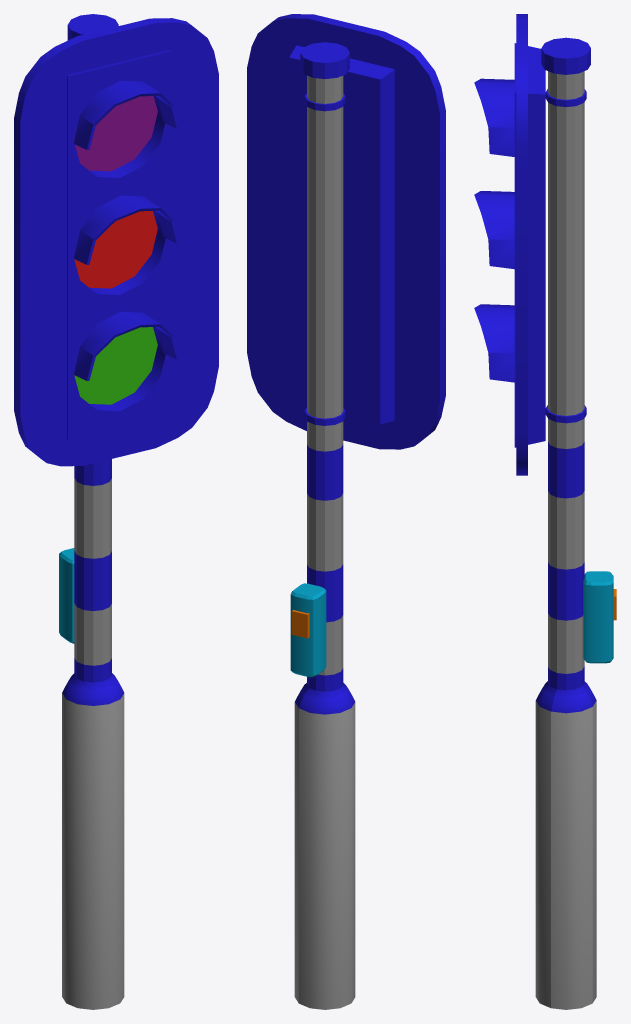
Rendered from Stoplicht1_Export.FBX.
3 views of the same model, side by side, from view 1: azimuth 30°, elevation 25°; view 2: azimuth 150°, elevation 25°; view 3: azimuth 270°, elevation 25° (orthographic). The views are drawn at different scales.
Parts seen in each view (by area): view 1: Stoplicht2; view 2: Stoplicht2; view 3: Stoplicht2.
Part boxes in pixels (<box>): Stoplicht2: <box>14,14,218,1009</box>; Stoplicht2: <box>247,14,445,1009</box>; Stoplicht2: <box>474,14,616,1009</box>.
Size of the model in its own units: 51.44 by 243 by 32.76.
